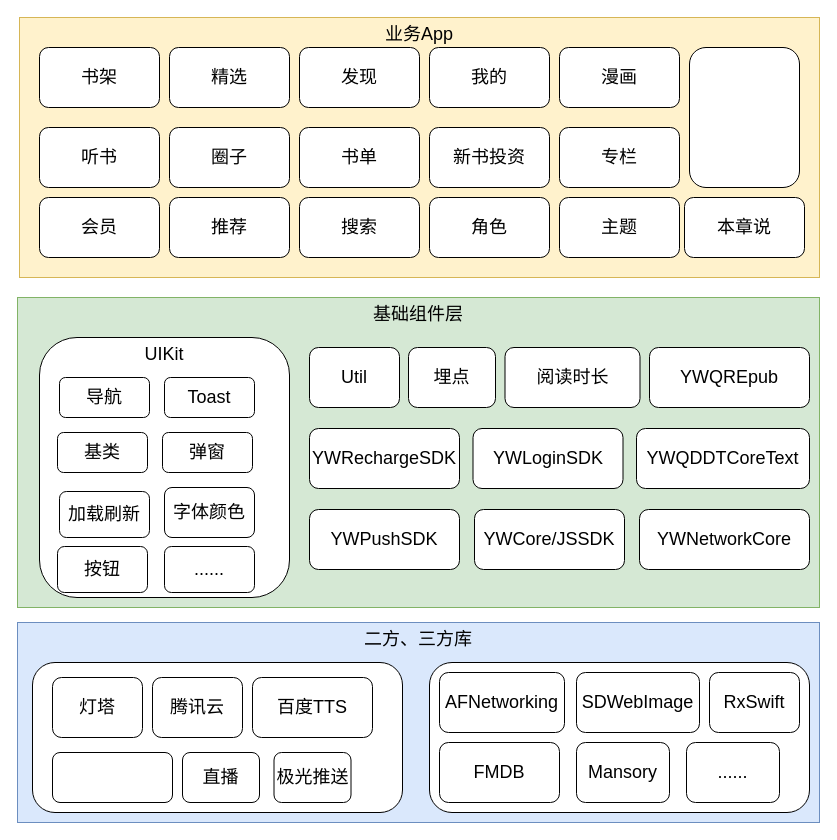
Some shapes in this 837 by 840 pixel diagram are drawn without their labels. The centre of each missing label's shape, as x and y in pixels:
广点通: (x=112, y=777)
阅读器: (x=744, y=117)
